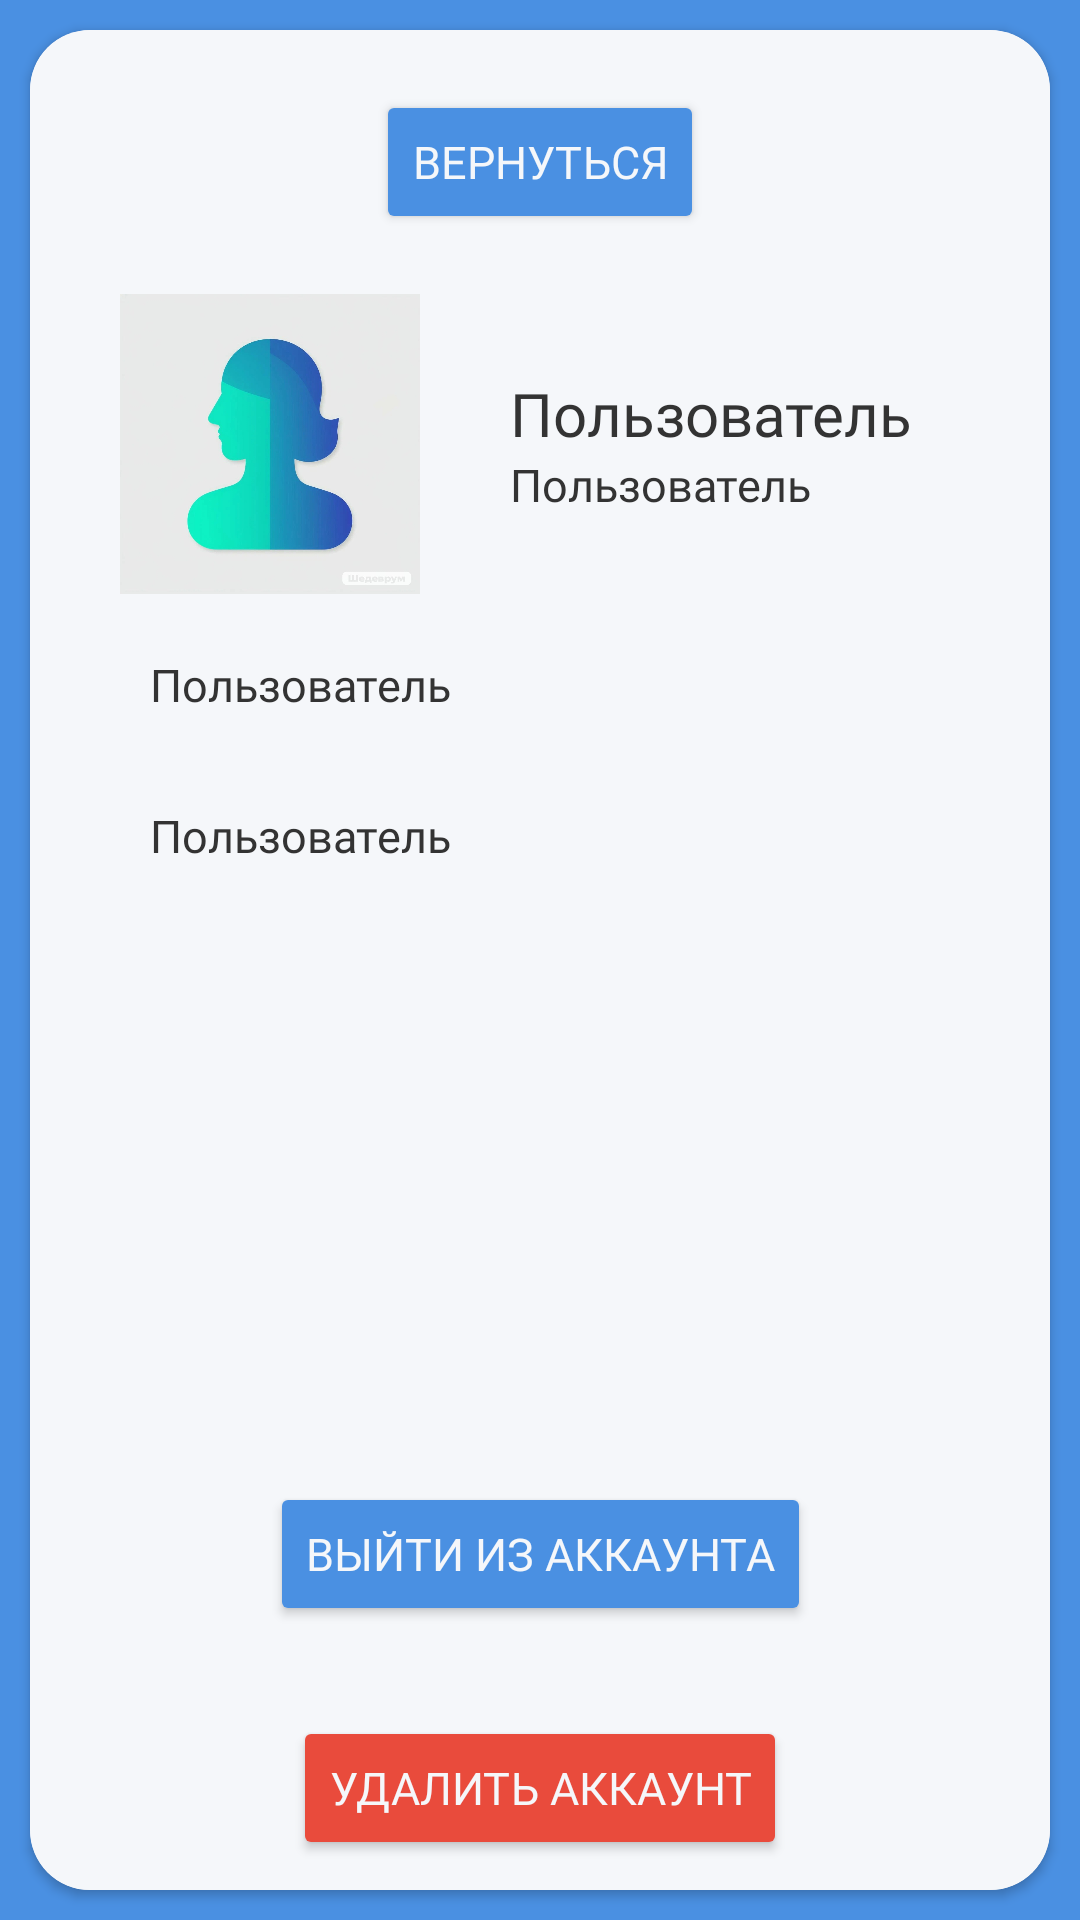

Screen size 1080 × 1920. Icon name, then its center in pixels as [x,y]:
userico: [271,445]
